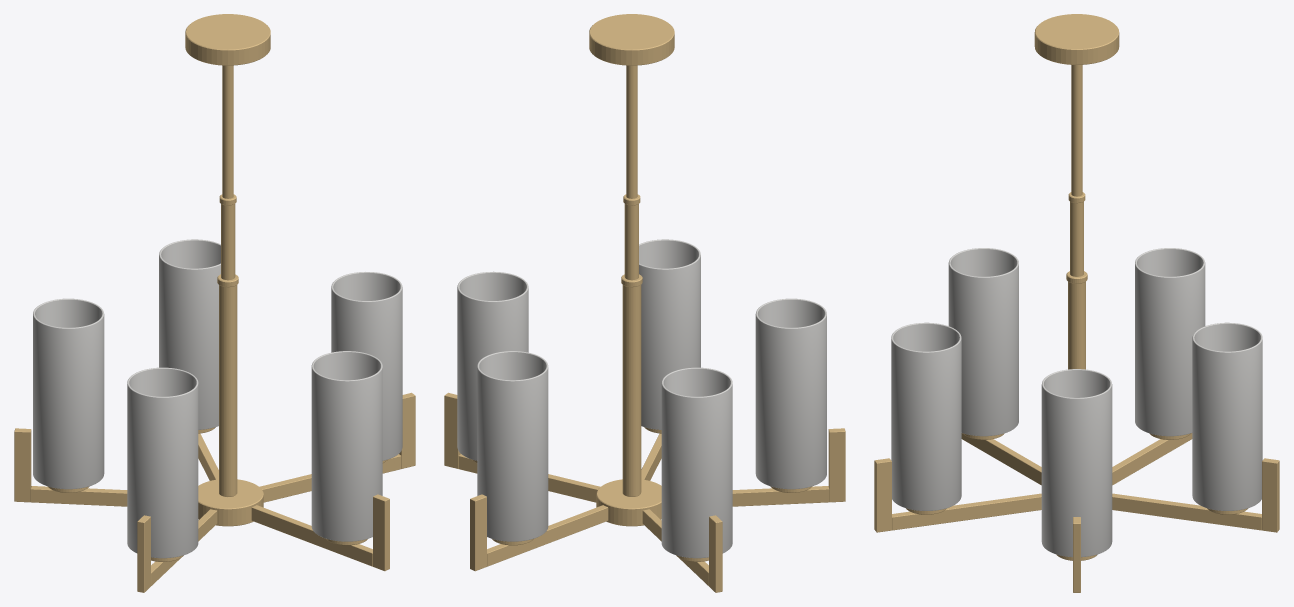
3 renders of one model, left to right at view 1: azimuth 30°, elevation 25°; view 2: azimuth 150°, elevation 25°; view 3: azimuth 270°, elevation 25°, orthographic.
Visible parts, largest first — view 1: shade, arm; view 2: shade, arm; view 3: shade, arm.
Part boxes in pixels (x1,y1,x2,y2): shade: [33, 239, 402, 558]; arm: [14, 14, 415, 592]; shade: [457, 239, 826, 558]; arm: [444, 14, 845, 592]; shade: [891, 248, 1262, 557]; arm: [874, 14, 1279, 592].
Bounding box in the file's own units: 0.5475 × 0.752 × 0.5756.
